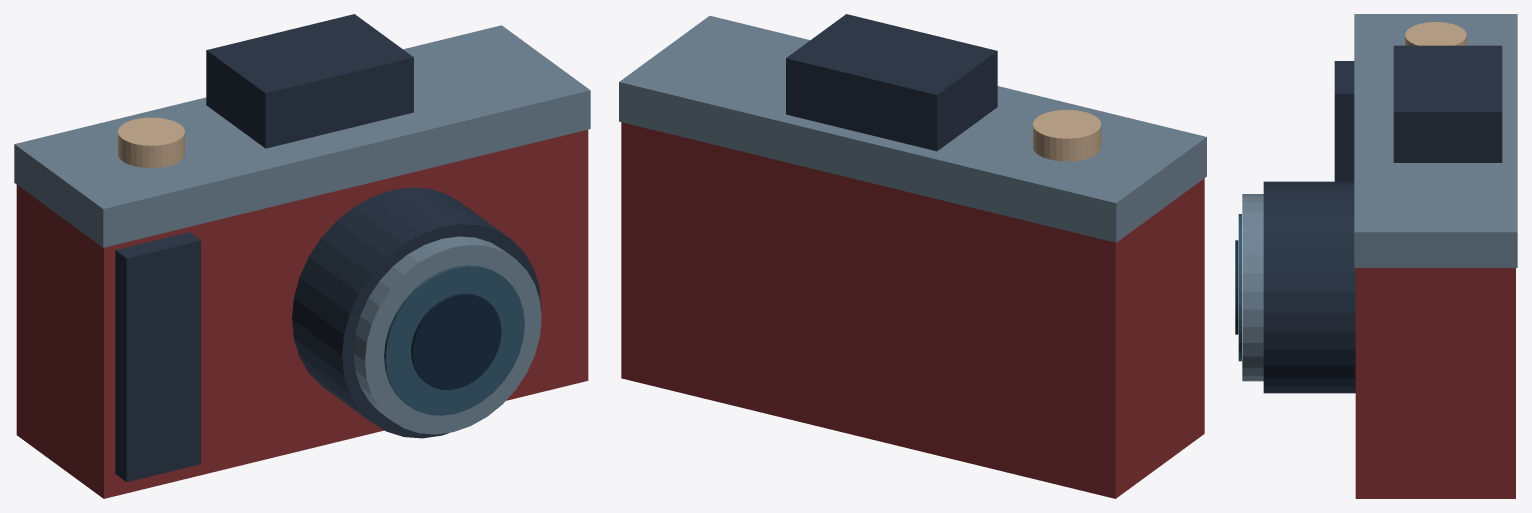
File: camera.glb
3 renders of one model, left to right at view 1: azimuth 30°, elevation 25°; view 2: azimuth 150°, elevation 25°; view 3: azimuth 270°, elevation 25°, orthographic. The views are drawn at different scales.
Parts seen in each view (by area): view 1: body, silver top, viewfinder, grip, lens barrel, lens ring, lens face, inner glass, shutter; view 2: body, silver top, viewfinder, shutter; view 3: body, silver top, lens barrel, viewfinder, lens ring, grip, shutter, lens face, inner glass.
Boxes of the visible parts, x1,y1,x2,y2 form: body: (16,129,588,498); silver top: (14,25,590,247); viewfinder: (206,14,413,148); grip: (115,232,200,481); lens barrel: (292,187,541,438); lens ring: (353,236,541,434); lens face: (384,265,524,415); inner glass: (411,293,501,390); shutter: (118,117,184,168); body: (621,122,1204,498); silver top: (619,15,1206,242); viewfinder: (786,14,997,151); shutter: (1033,109,1101,161); body: (1355,268,1515,498); silver top: (1354,14,1517,267); lens barrel: (1263,181,1355,393); viewfinder: (1393,45,1502,162); lens ring: (1242,194,1263,381); grip: (1334,61,1354,181); shutter: (1405,22,1466,45); lens face: (1238,214,1241,361); inner glass: (1235,240,1238,334).
Size of the model in its own units: 1.71 by 1.16 by 0.933.
